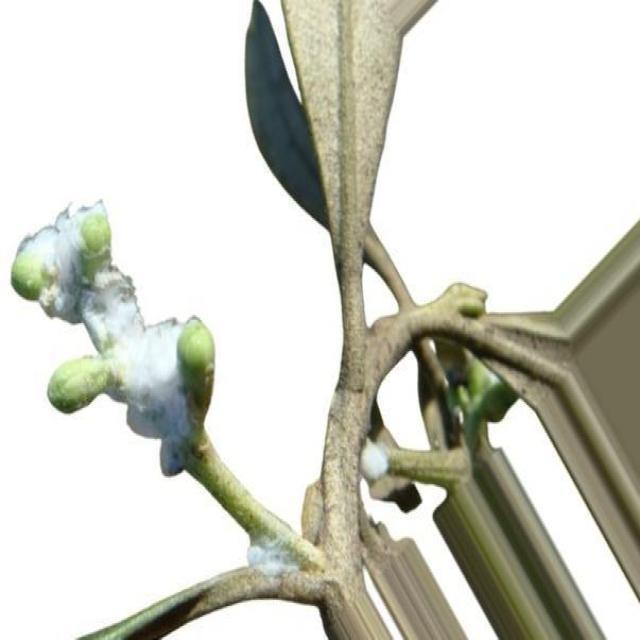Psyllid: (11, 200, 220, 500), (359, 420, 400, 500), (248, 532, 306, 576)
